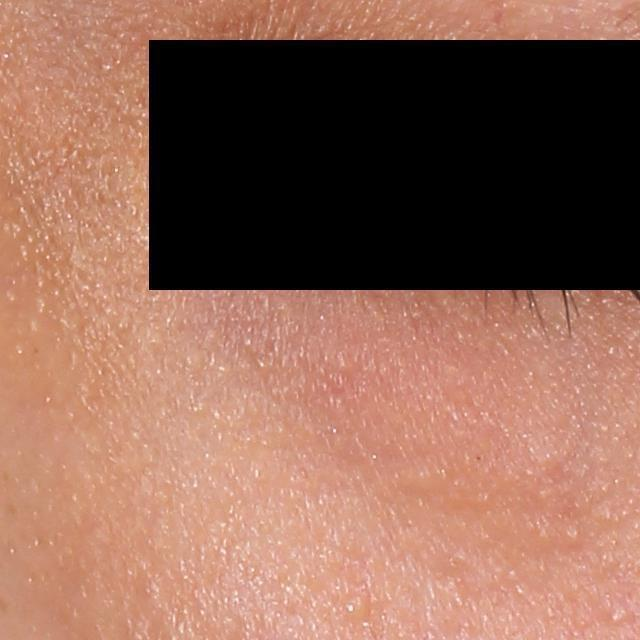comedo: (344, 590, 374, 622), (601, 605, 627, 627)
